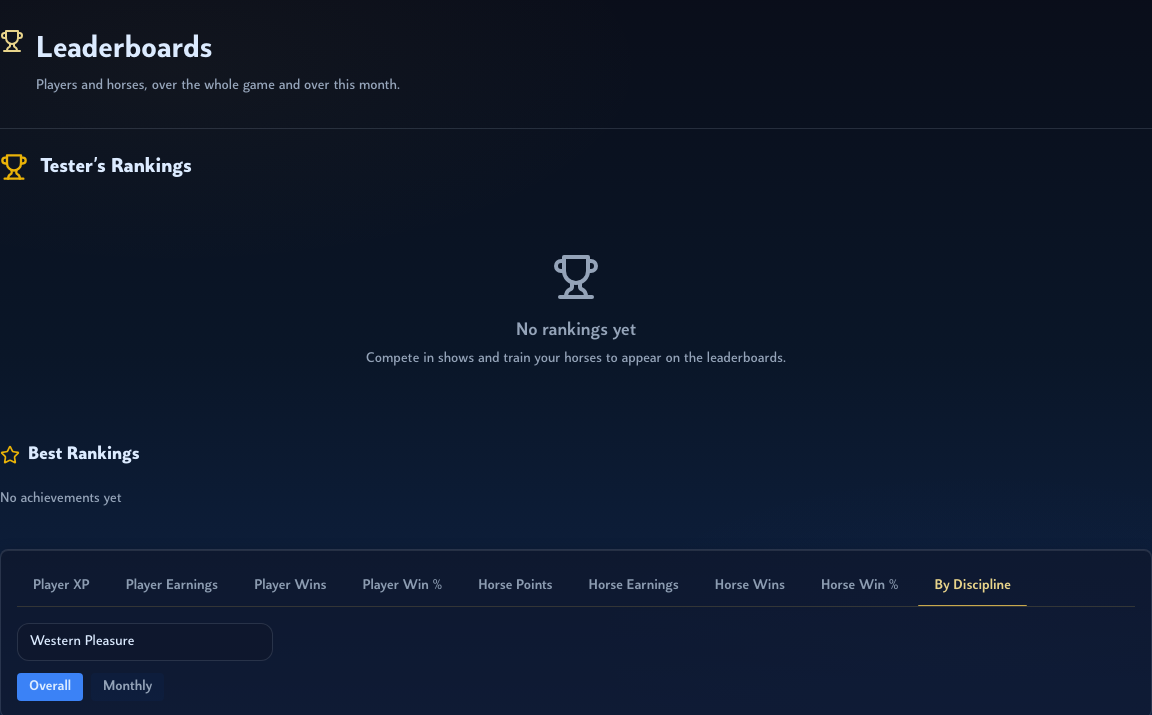
Test: LeaderboardsPage — real board shapes (Equoria-pthuj) › discipline: asks for the selected discipline by name and lists its winners
Select "Show Jumping" in the dropdown with test id "discipline-selector": (145, 642) x1=17 y1=623 x2=273 y2=661
(page scrolled)
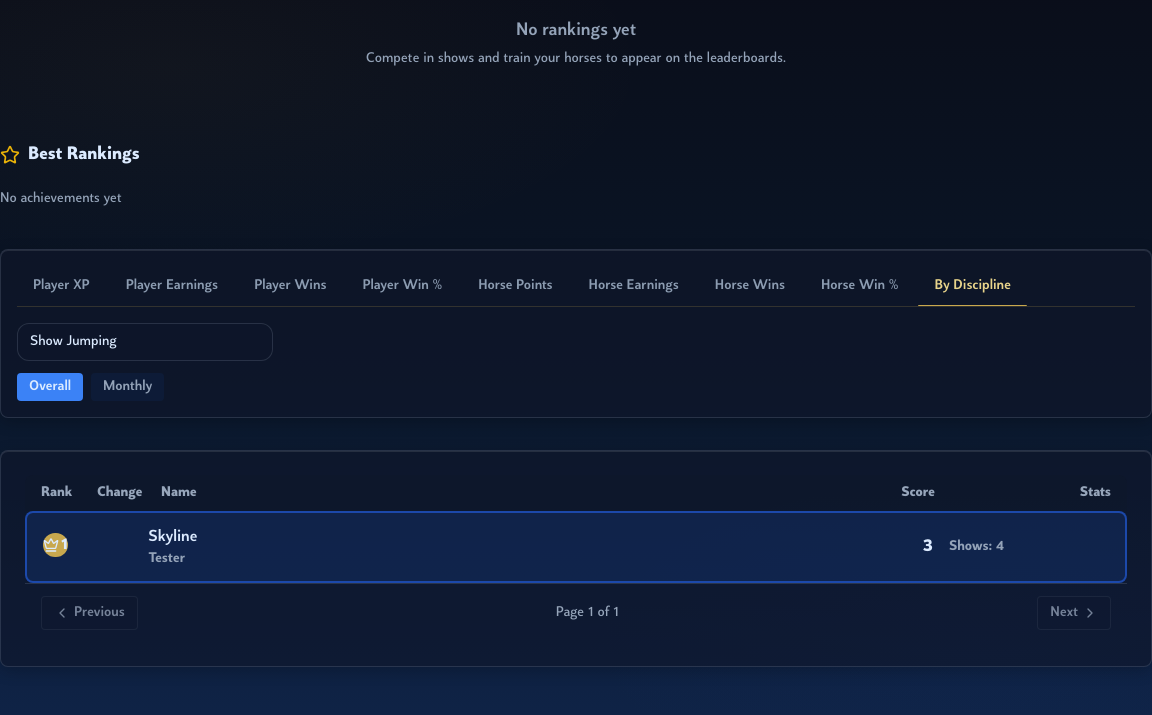
Now the text "Skyline" is shown, box x1=148 y1=529 x2=198 y2=545
